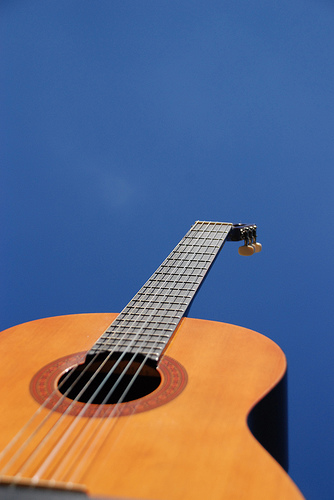guitar: (1, 215, 310, 500)
